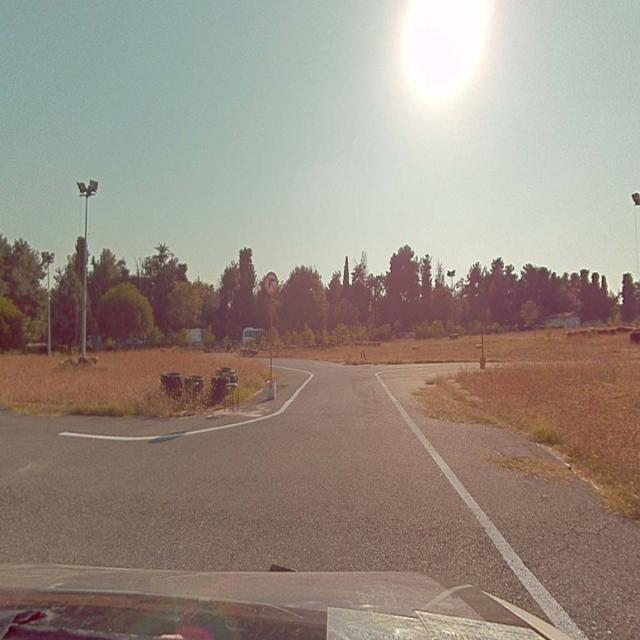sagadonulmez: (265, 271, 278, 293)
